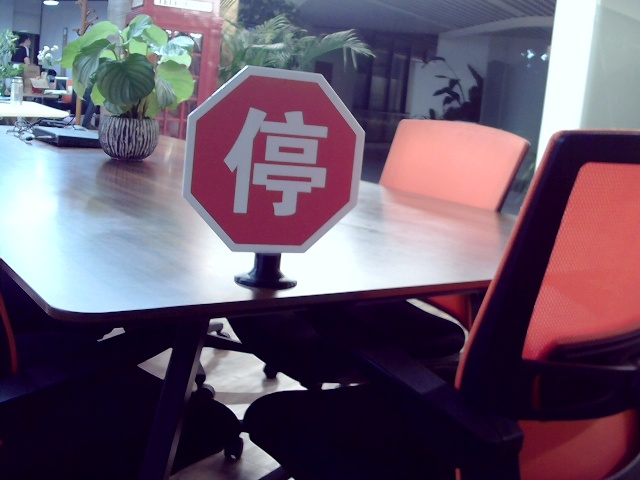stop: (220, 103, 330, 215)
